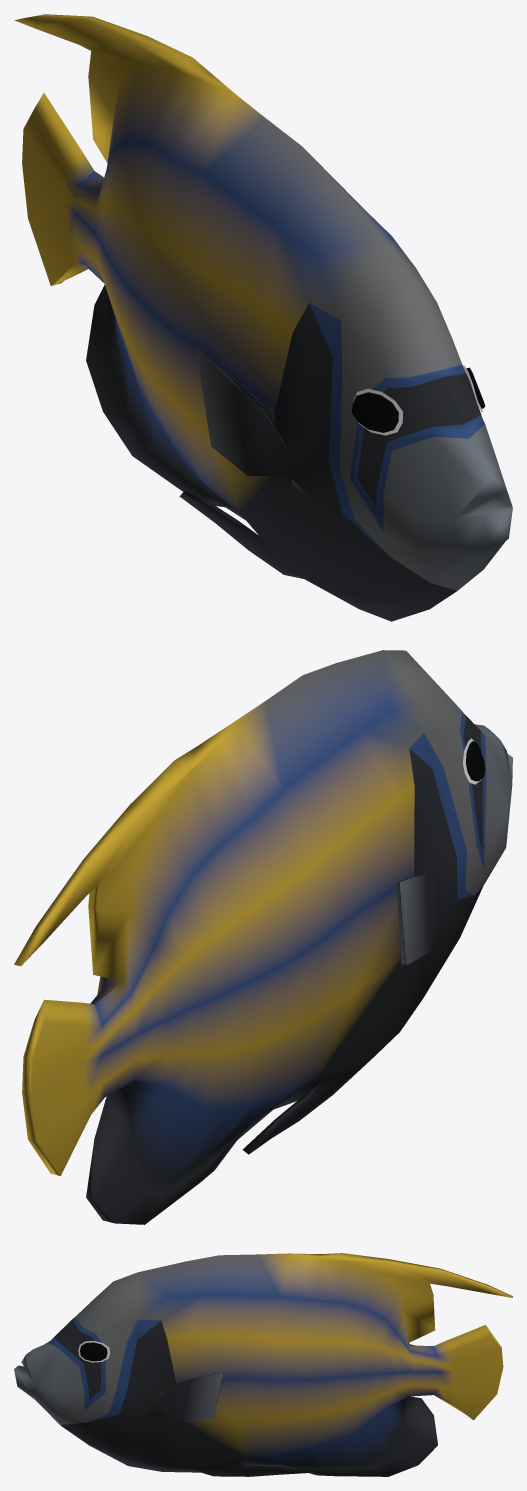
Rendered from underwater-fish-angelfish_v4.fbx.
3 views of the same model, one above another, from view 1: azimuth 30°, elevation 25°; view 2: azimuth 150°, elevation 25°; view 3: azimuth 270°, elevation 25° (orthographic). The views are drawn at different scales.
Parts seen in each view (by area): view 1: Angelfish_v4; view 2: Angelfish_v4; view 3: Angelfish_v4.
Part boxes in pixels (bbox=[...]): Angelfish_v4: bbox=[14, 14, 512, 621]; Angelfish_v4: bbox=[14, 650, 512, 1224]; Angelfish_v4: bbox=[14, 1253, 512, 1476].
Bounding box in the file's own units: 0.0866 × 0.1717 × 0.35.
